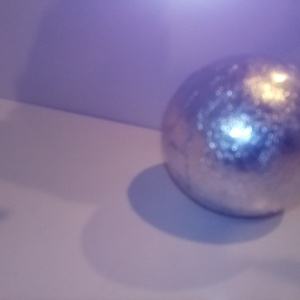alive_ball: (162, 55, 300, 218)
